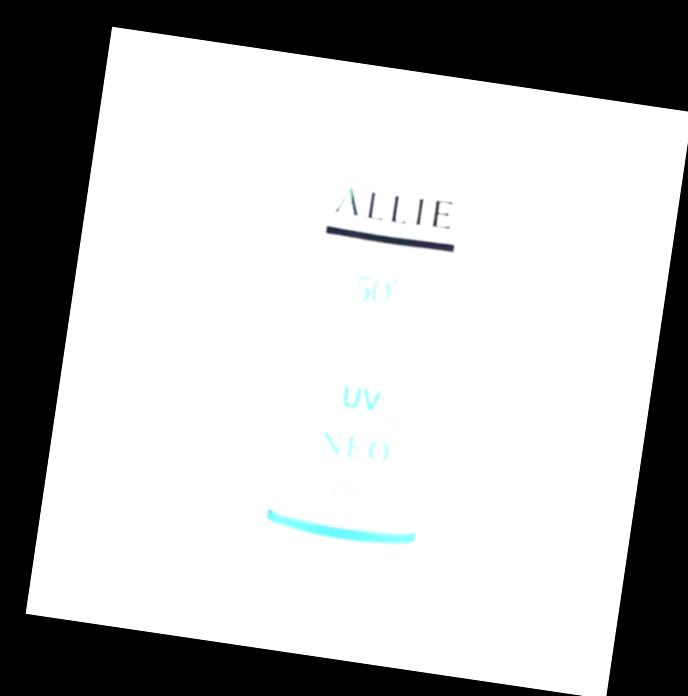cosmetic: (223, 87, 509, 635)
